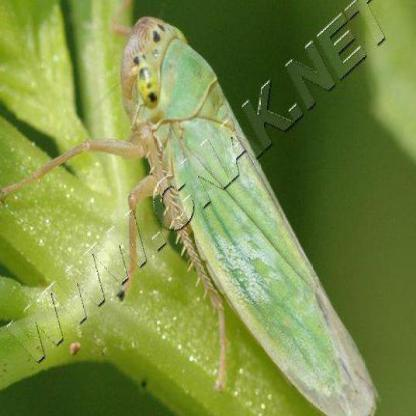Green-Leafhopper: (0, 19, 379, 412)
